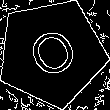O_SE: (20, 20, 83, 85)
